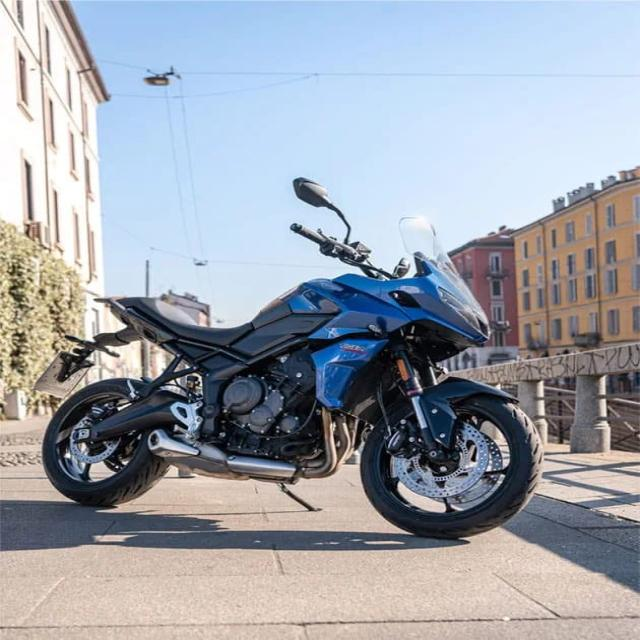motorcycle: (39, 219, 543, 538)
